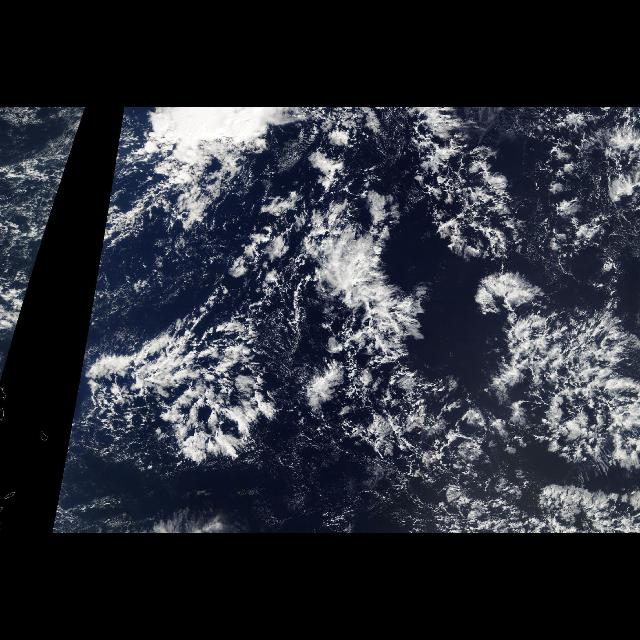Fish: (350, 109, 640, 497), (82, 178, 348, 464)
